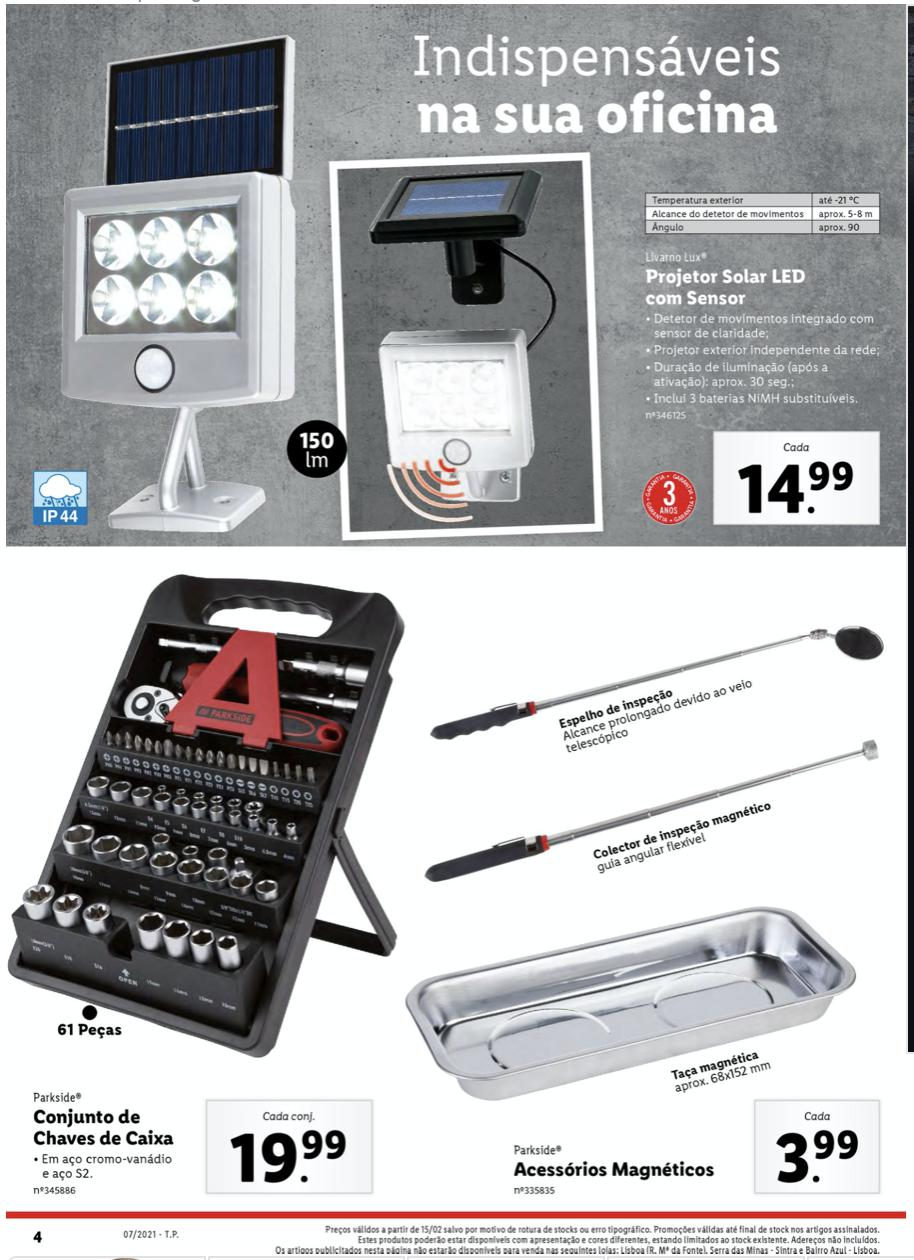name: (639, 262, 808, 306), (33, 1104, 178, 1152), (511, 1156, 717, 1182)
price: (728, 457, 863, 521), (227, 1127, 352, 1188), (771, 1121, 869, 1190)
product: (17, 15, 900, 543), (413, 577, 903, 1213), (24, 570, 402, 1207)
